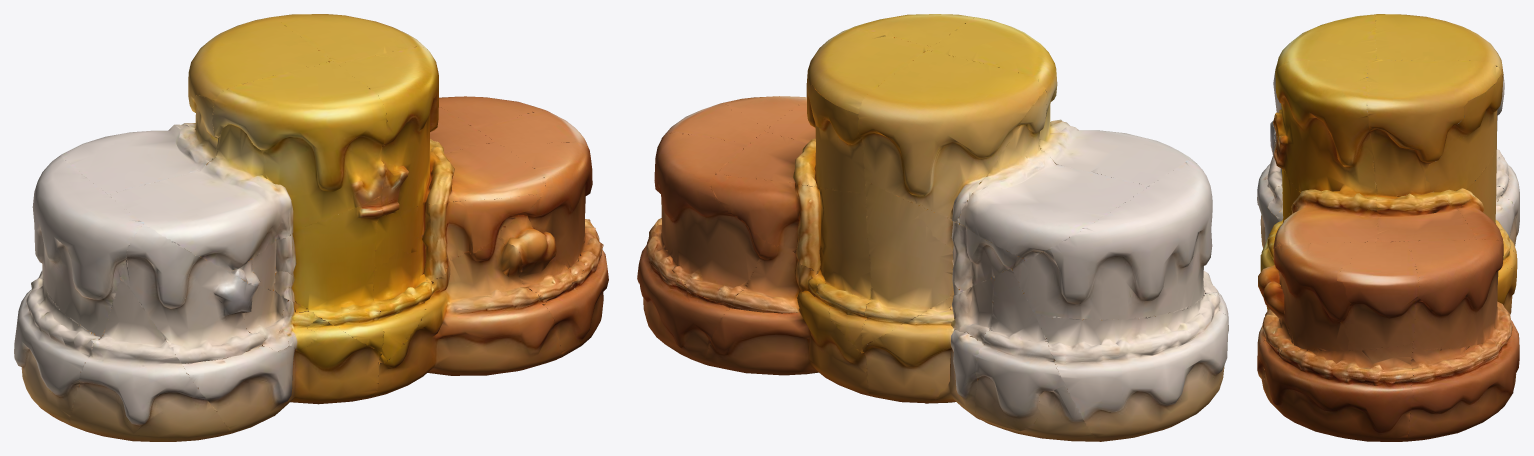
File: arcade-podium-tiered-cake.glb
The picture shows the model from 3 angles, left to right: view 1: azimuth 30°, elevation 25°; view 2: azimuth 150°, elevation 25°; view 3: azimuth 270°, elevation 25°; orthographic projection. The views are drawn at different scales.
Parts seen in each view (by area): view 1: tripo_node_96738b8f-78e4-435e-8ce2-a8fd9a470c5f; view 2: tripo_node_96738b8f-78e4-435e-8ce2-a8fd9a470c5f; view 3: tripo_node_96738b8f-78e4-435e-8ce2-a8fd9a470c5f.
Boxes of the visible parts, bbox=[...] form: tripo_node_96738b8f-78e4-435e-8ce2-a8fd9a470c5f: bbox=[14, 14, 608, 441]; tripo_node_96738b8f-78e4-435e-8ce2-a8fd9a470c5f: bbox=[637, 14, 1228, 441]; tripo_node_96738b8f-78e4-435e-8ce2-a8fd9a470c5f: bbox=[1257, 14, 1519, 441].
Bounding box in the file's own units: 1 × 0.5371 × 0.4533.
Materials: 1 (1 with a texture image).
